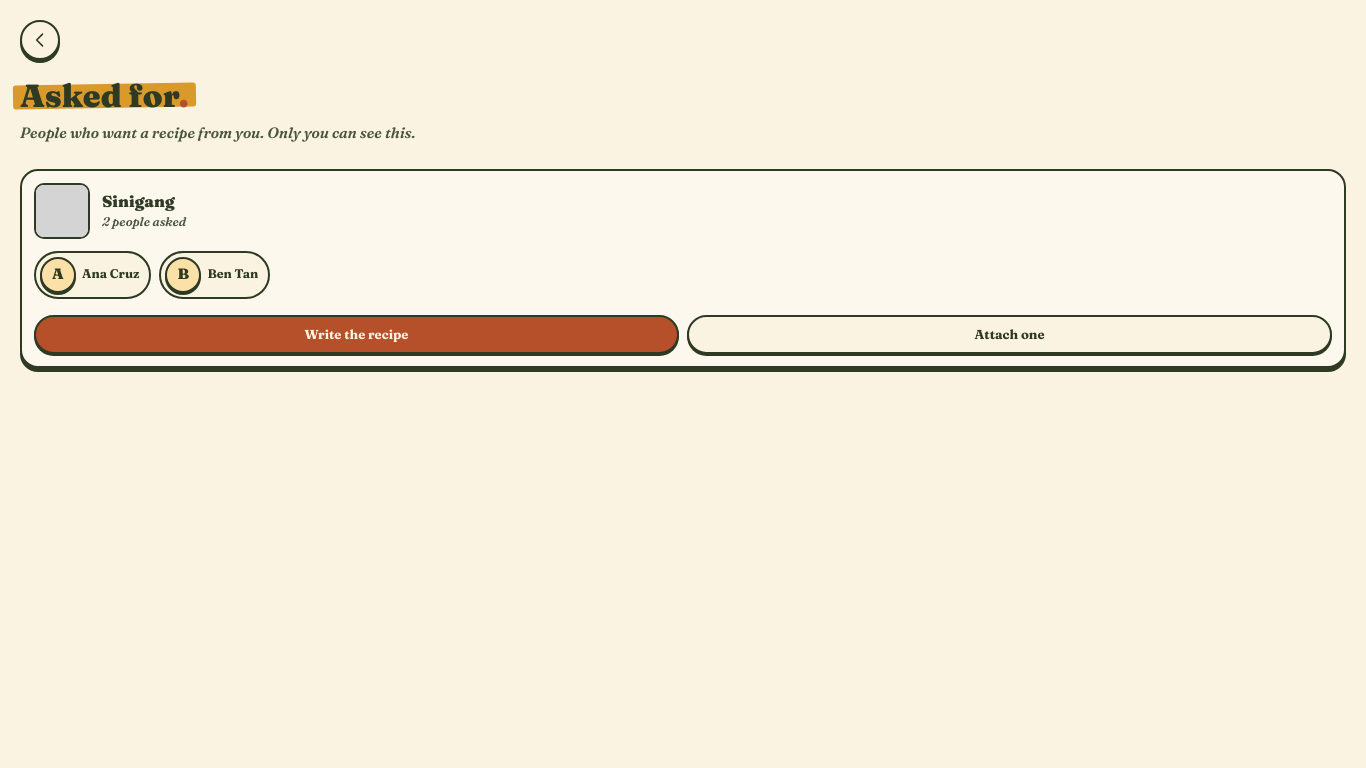
Requests — the cook’s asks (#79) › reloads after fulfilling, so an answered ask leaves the list
The width and height of the screenshot is (1366, 768).
Expected: the heading "Sinigang" is shown, [102, 191, 175, 211]
Click the button "Attach one": {"x": 1010, "y": 334} [687, 314, 1332, 354]
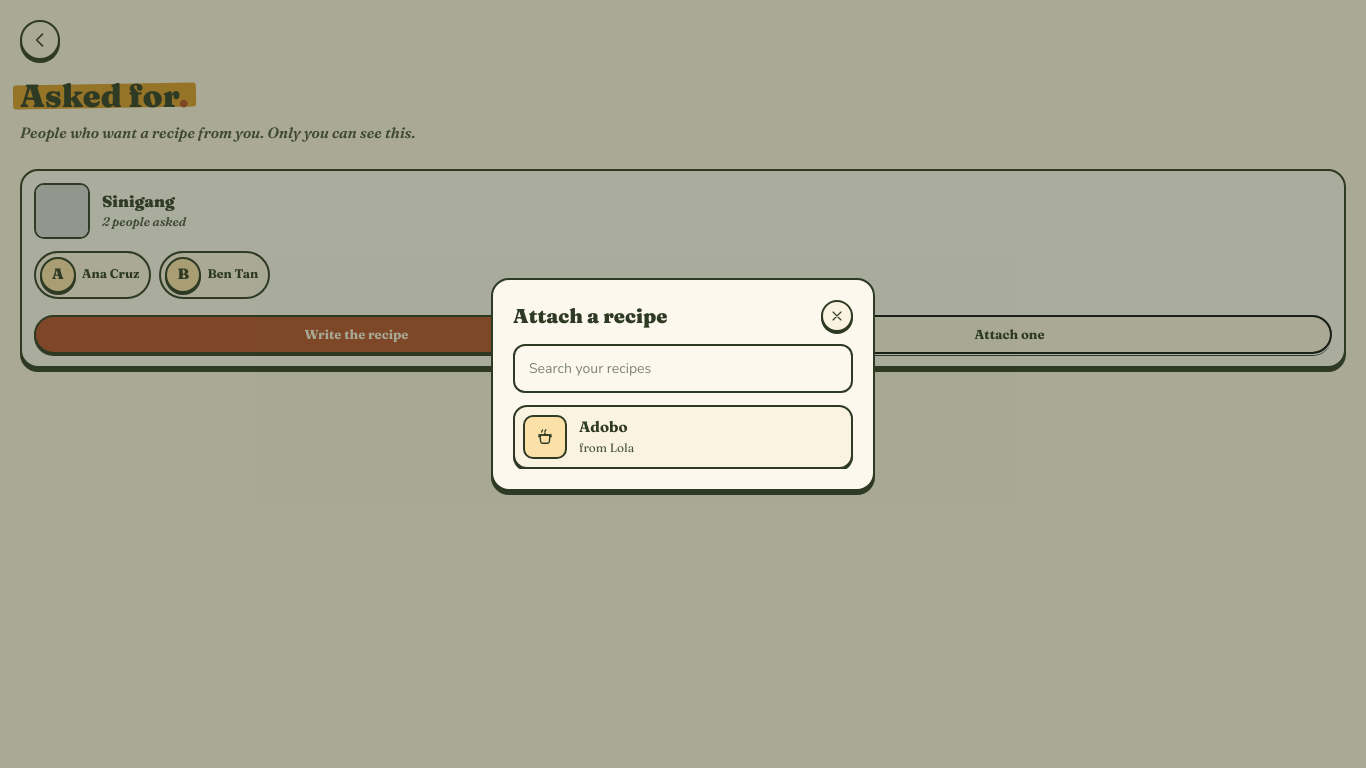
Click the text "Adobo": {"x": 607, "y": 428} [579, 416, 634, 439]
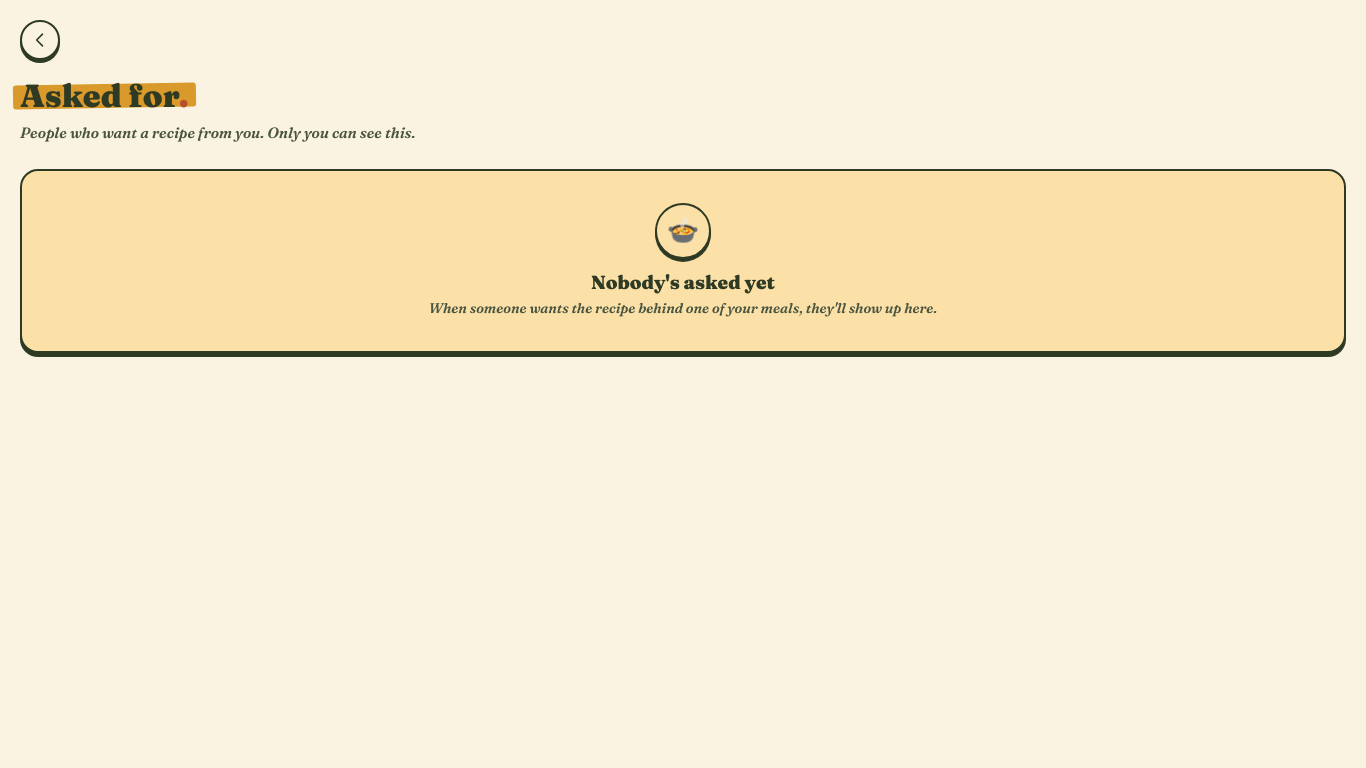
Expected: the text "Nobody's asked yet" is shown, [591, 270, 775, 294]
